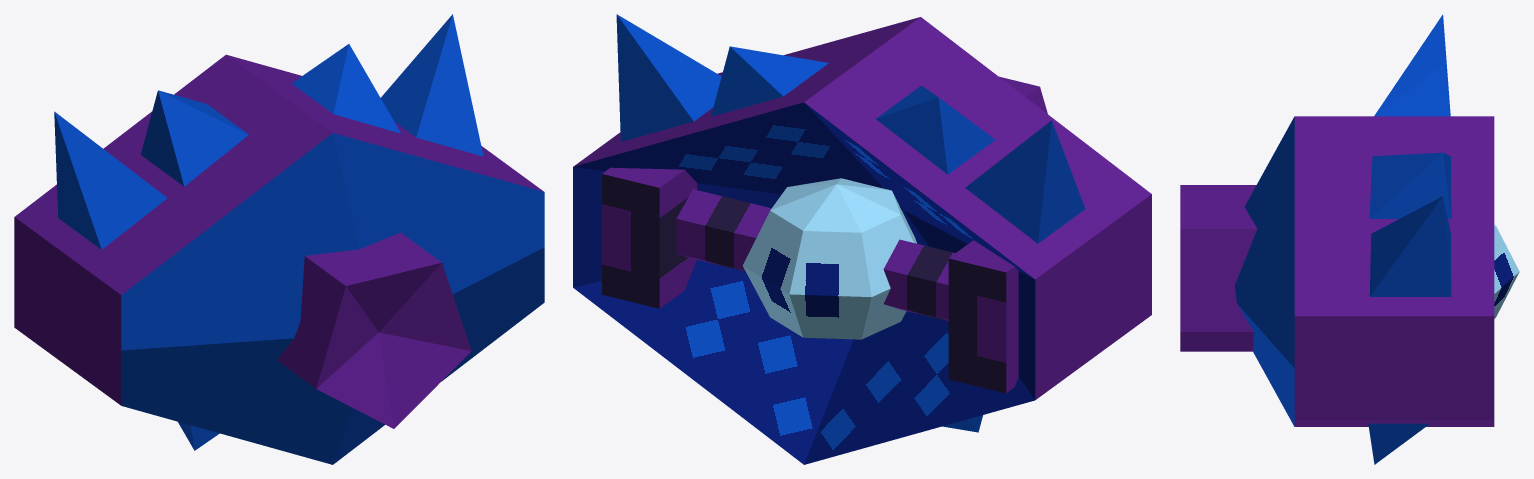
Rendered from dalnik_bbmodel.fbx.
3 renders of one model, left to right at view 1: azimuth 30°, elevation 25°; view 2: azimuth 150°, elevation 25°; view 3: azimuth 270°, elevation 25°, orthographic. The views are drawn at different scales.
Visible parts, largest first — view 1: cuboid, cylinder_2, pyramid, pyramid_3, pyramid_2, pyramid_5, pyramid_4; view 2: cuboid, sphere, cuboid_1, cuboid_2, pyramid_3, pyramid, cylinder_1, pyramid_2, pyramid_5, cylinder; view 3: cuboid, cylinder_2, pyramid_3, pyramid_5, pyramid, pyramid_2, pyramid_1, sphere.
Part boxes in pixels (x1,y1,x2,y2): cuboid: (14, 54, 544, 464); cylinder_2: (277, 232, 471, 428); pyramid: (54, 111, 167, 249); pyramid_3: (381, 14, 483, 156); pyramid_2: (140, 90, 248, 186); pyramid_5: (292, 44, 400, 133); pyramid_4: (178, 422, 219, 450); cuboid: (573, 17, 1151, 464); sphere: (742, 178, 916, 339); cuboid_1: (602, 167, 697, 308); cuboid_2: (948, 240, 1018, 393); pyramid_3: (616, 14, 721, 141); pyramid: (965, 120, 1085, 243); cylinder_1: (676, 189, 771, 271); pyramid_2: (876, 85, 995, 174); pyramid_5: (711, 46, 828, 116); cylinder: (883, 239, 955, 320); cuboid: (1235, 116, 1494, 426); cylinder_2: (1180, 185, 1257, 351); pyramid_3: (1369, 196, 1451, 296); pyramid_5: (1369, 152, 1451, 218); pyramid: (1374, 14, 1450, 116); pyramid_2: (1375, 65, 1450, 116); pyramid_1: (1368, 423, 1429, 464); sphere: (1494, 224, 1519, 318).
Size of the model in its own units: 100 by 77.74 by 74.28.
1 material, 1 textured.
